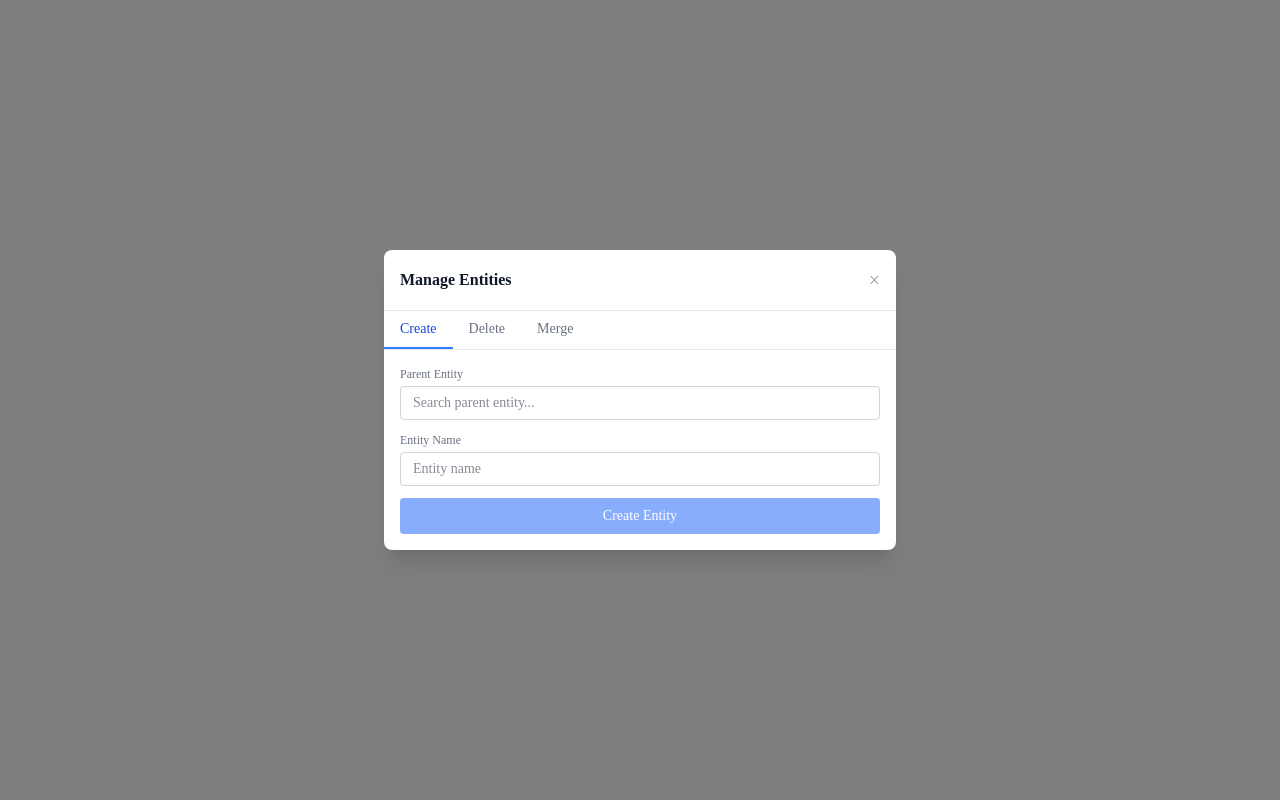
Test: ManageEntitiesModal › switches to Merge tab
Click the button "Merge".
click(555, 330)  # box [521,311,589,349]
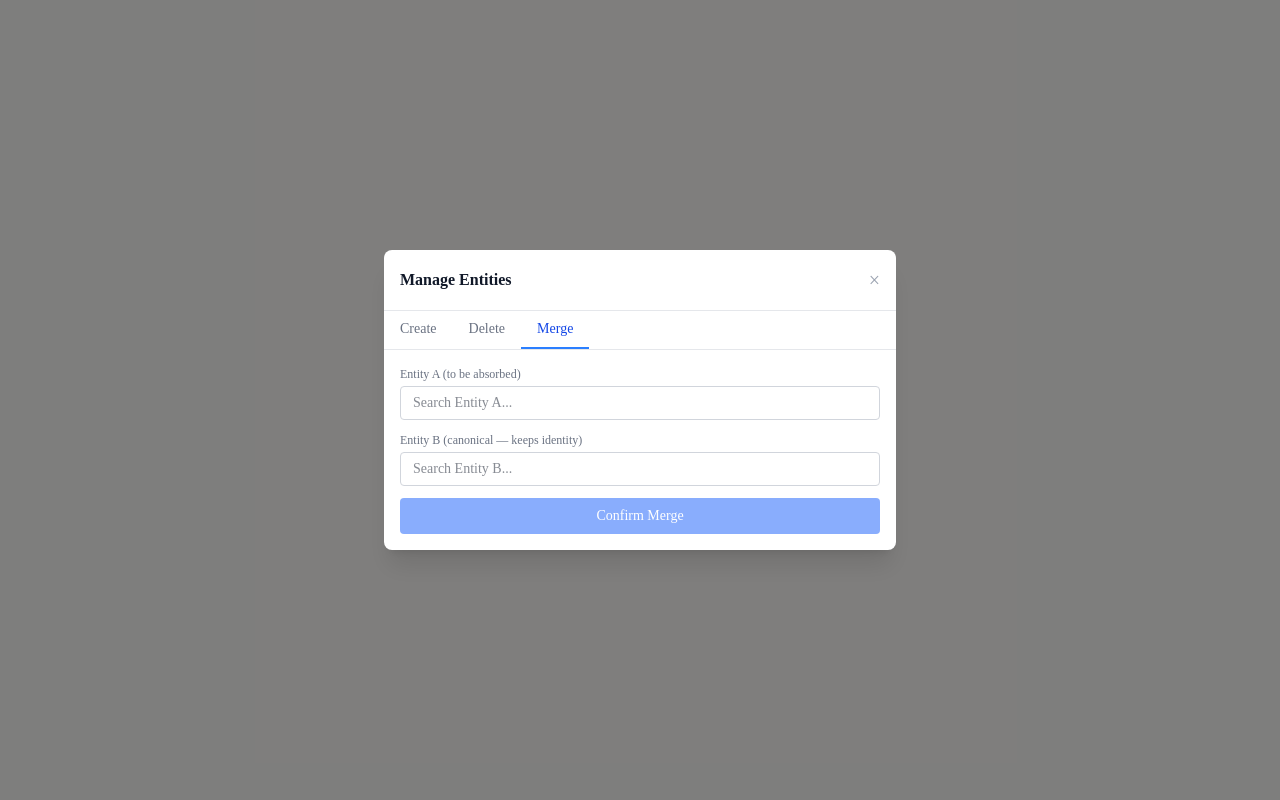
Result: the text "Entity A (to be absorbed)" is shown at [400,367,521,381]
